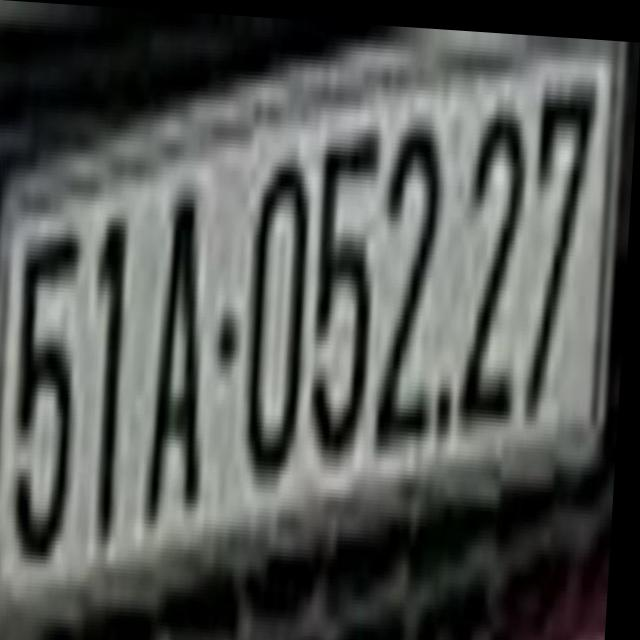0: (240, 146, 315, 498)
1: (87, 211, 140, 566)
2: (377, 110, 449, 443), (459, 99, 528, 423)
5: (13, 227, 89, 572), (313, 126, 386, 459)
7: (525, 75, 599, 431)
A: (148, 184, 221, 536)
